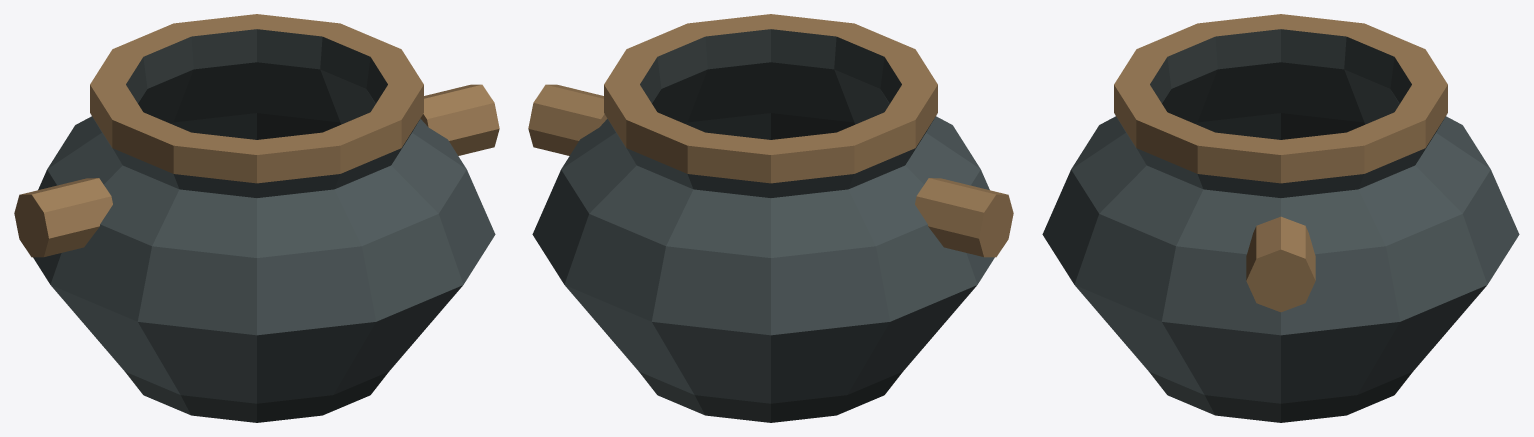
The model's file is crucible.glb.
3 renders of one model, left to right at view 1: azimuth 30°, elevation 25°; view 2: azimuth 150°, elevation 25°; view 3: azimuth 270°, elevation 25°, orthographic.
Visible parts, largest first — view 1: crucible__body; view 2: crucible__body; view 3: crucible__body.
Boxes of the visible parts, x1,y1,x2,y2 form: crucible__body: (14,14,499,422); crucible__body: (528,14,1013,422); crucible__body: (1042,14,1519,422).
Bounding box in the file's own units: 1.2 × 0.72 × 1.1.
